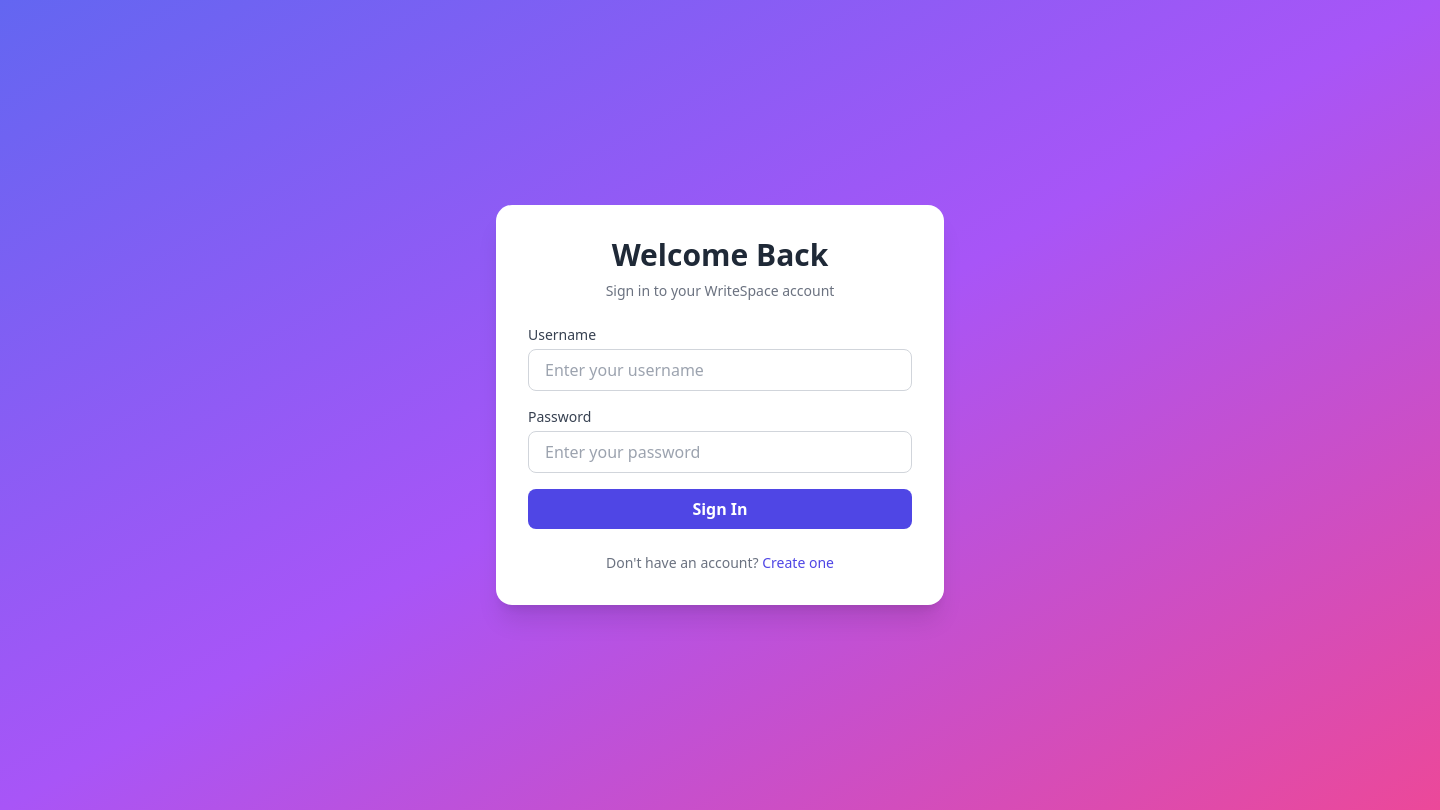
Test case: LoginPage › failed login › displays an error message when fields are empty
Step 1. Click the button "Sign In" → (720, 509), box [528,489,912,529]
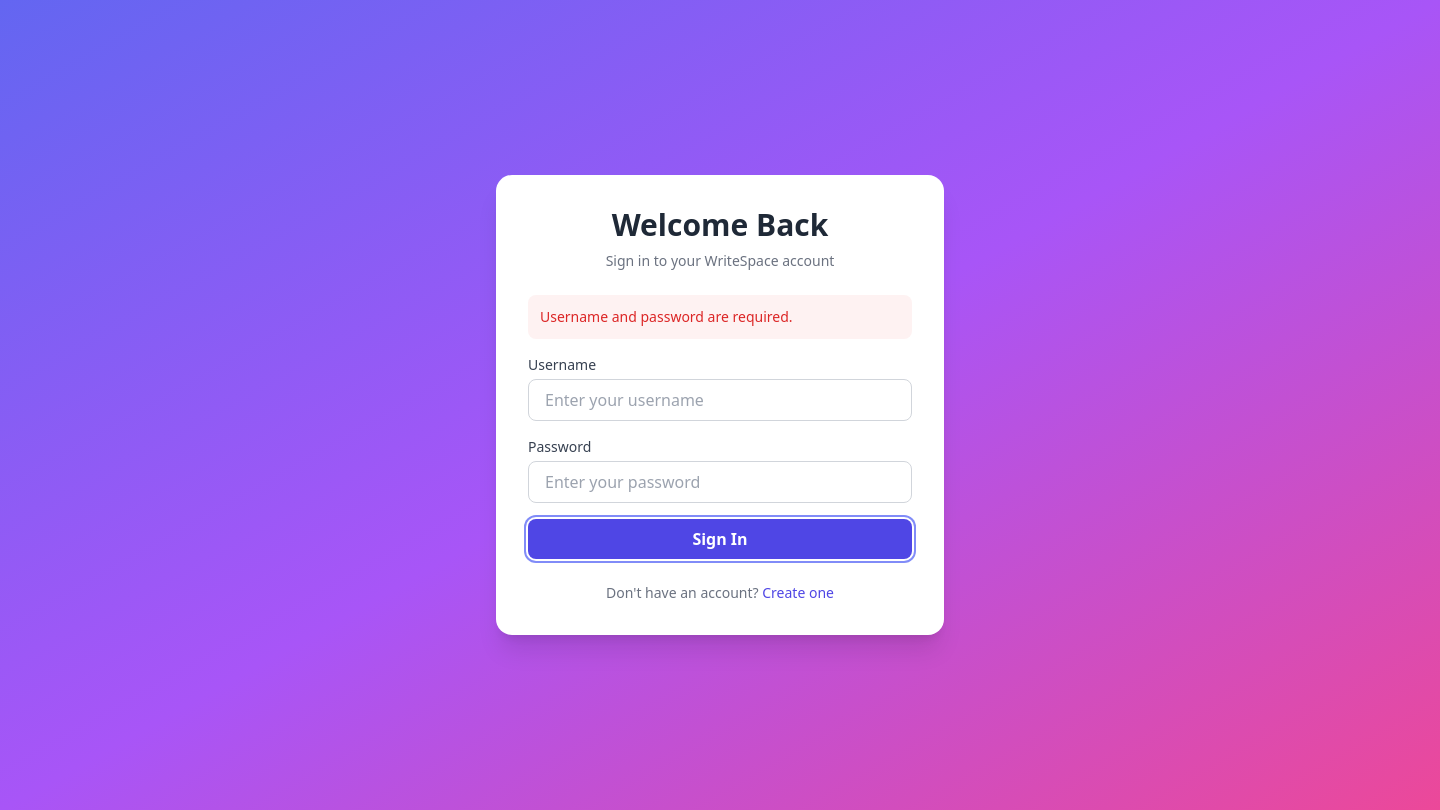
Result: the text "Username and password are required." is shown at [528,295,912,339]
